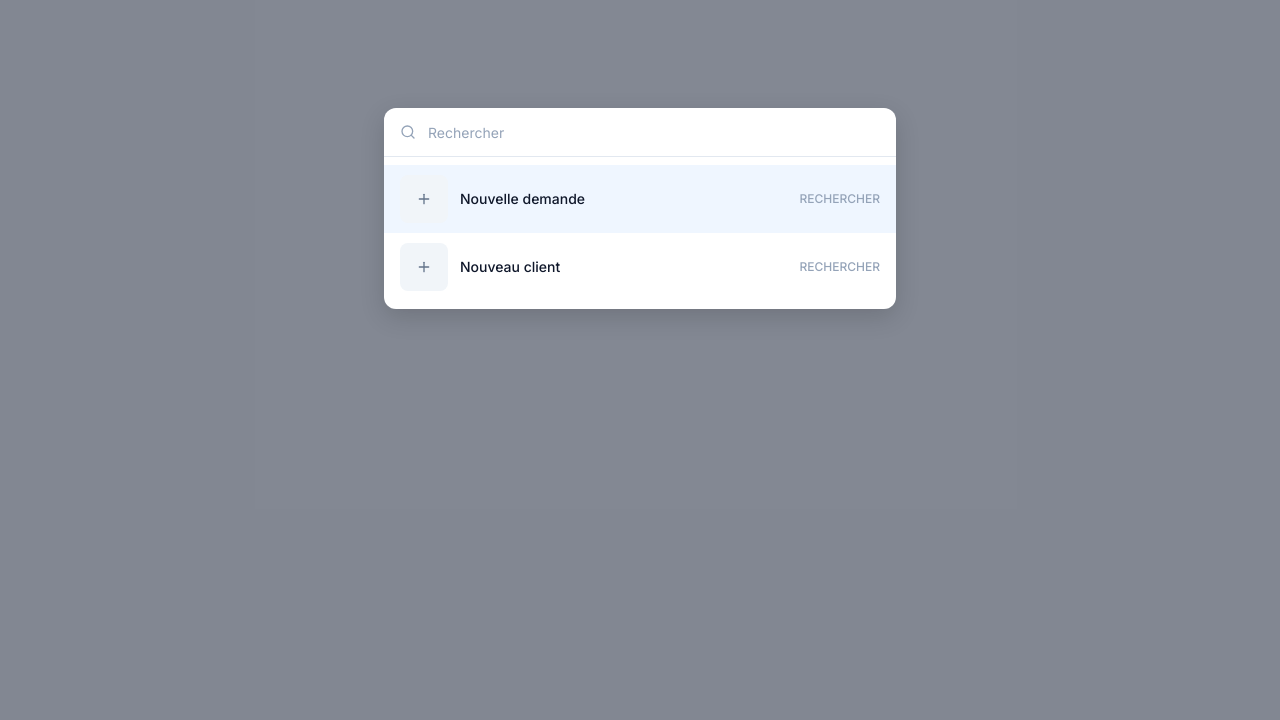
Test case: CommandPalette › shows the empty message when no results match
This screenshot has width=1280, height=720.
Type "zzzzz" into the search field at (654, 132), box [428, 108, 880, 156]
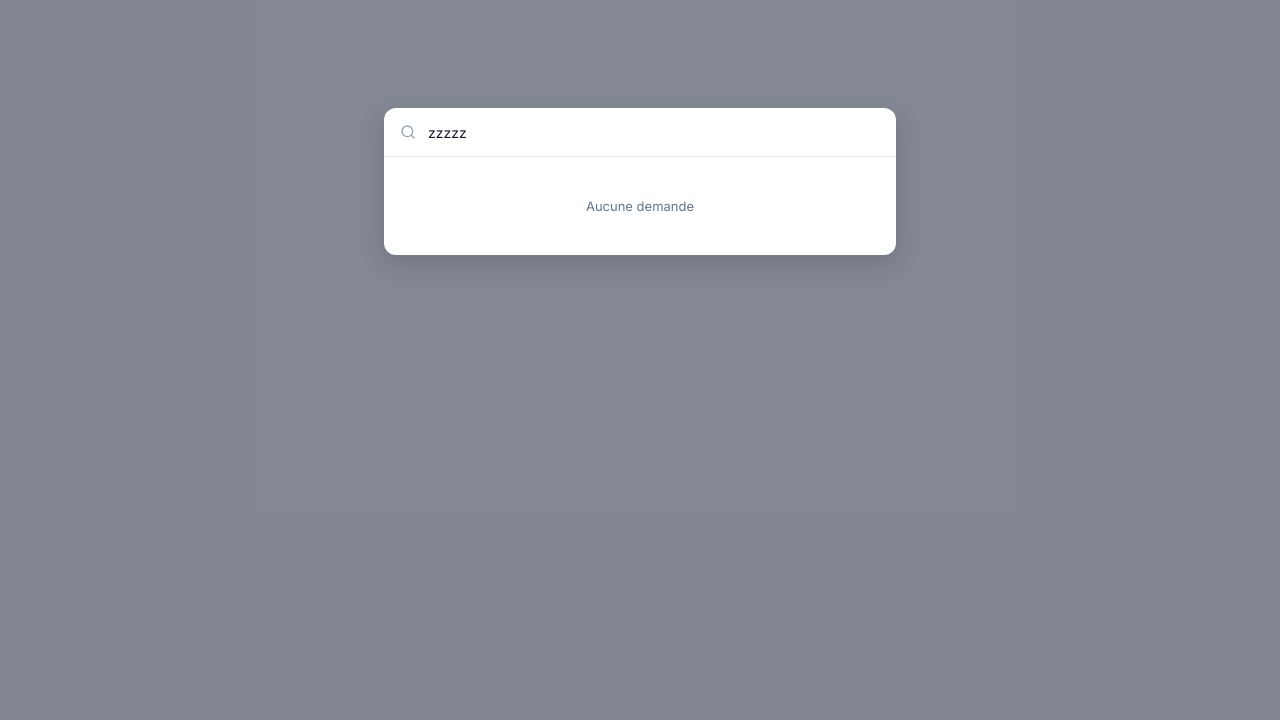
Now the list item "Aucune demande" is shown, box [586, 198, 694, 214]
